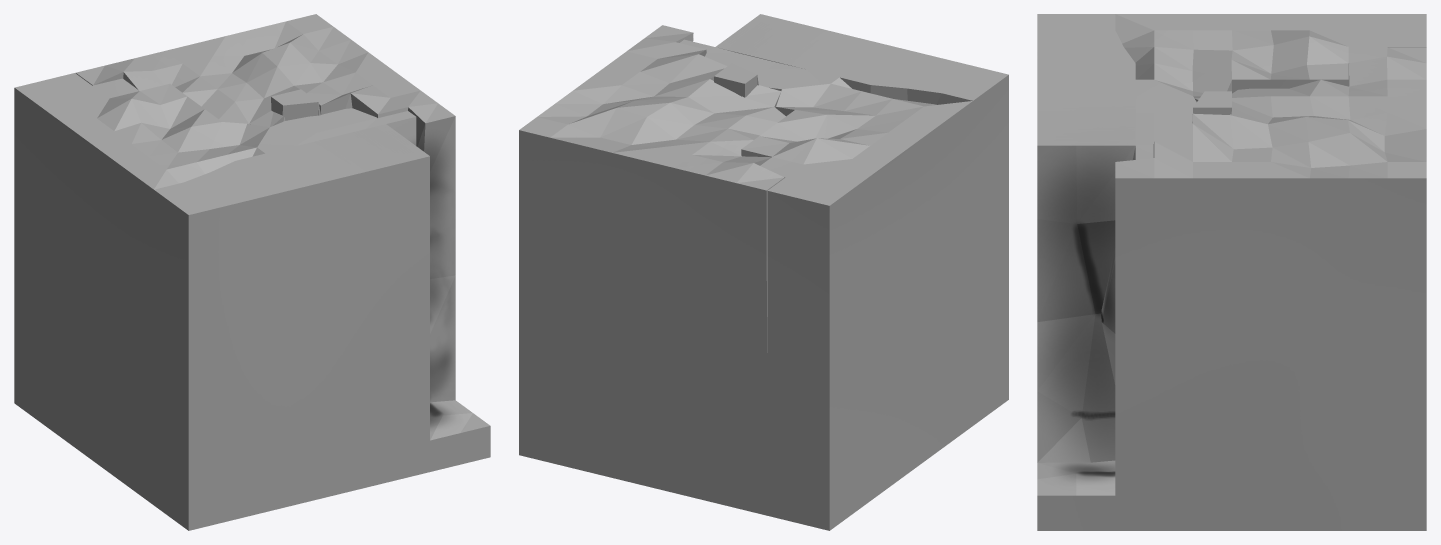
The model's file is inverseCorner.fbx.
The picture shows the model from 3 angles, left to right: view 1: azimuth 30°, elevation 25°; view 2: azimuth 150°, elevation 25°; view 3: azimuth 270°, elevation 25°; orthographic projection. The views are drawn at different scales.
Parts seen in each view (by area): view 1: Cube; view 2: Cube; view 3: Cube.
Boxes of the visible parts, bbox=[...] form: Cube: bbox=[14, 14, 490, 530]; Cube: bbox=[519, 14, 1008, 530]; Cube: bbox=[1037, 14, 1426, 530].
Bounding box in the file's own units: 100 × 105 × 100.
1 material, 1 textured.
